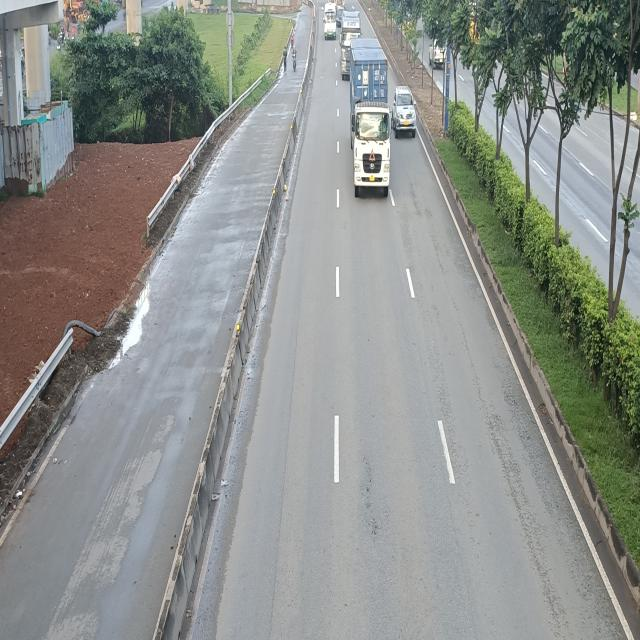car: (395, 87, 418, 135)
container: (349, 40, 394, 200)
